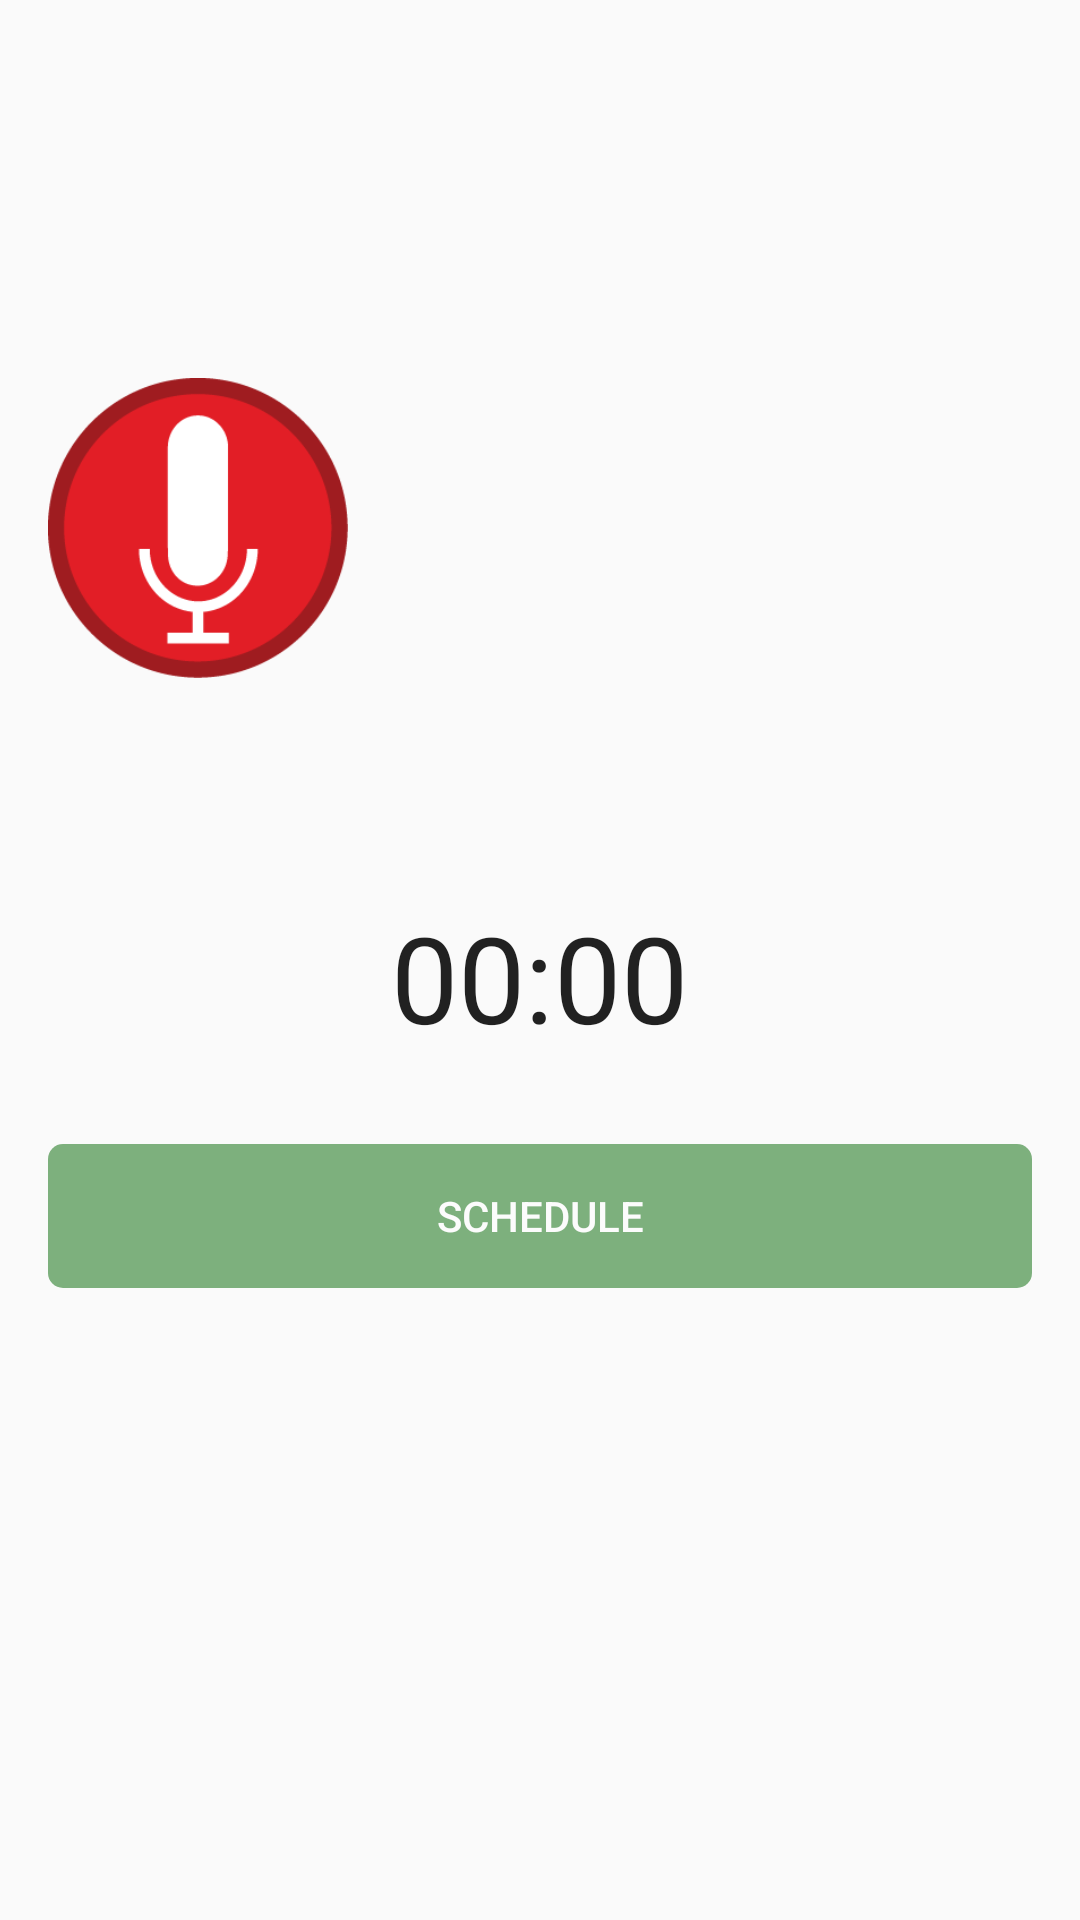

Screen size 1080*1920. Icon name, then its box in pixels as (x1, y1, x2, y2):
record sound: (48, 378, 348, 678)
